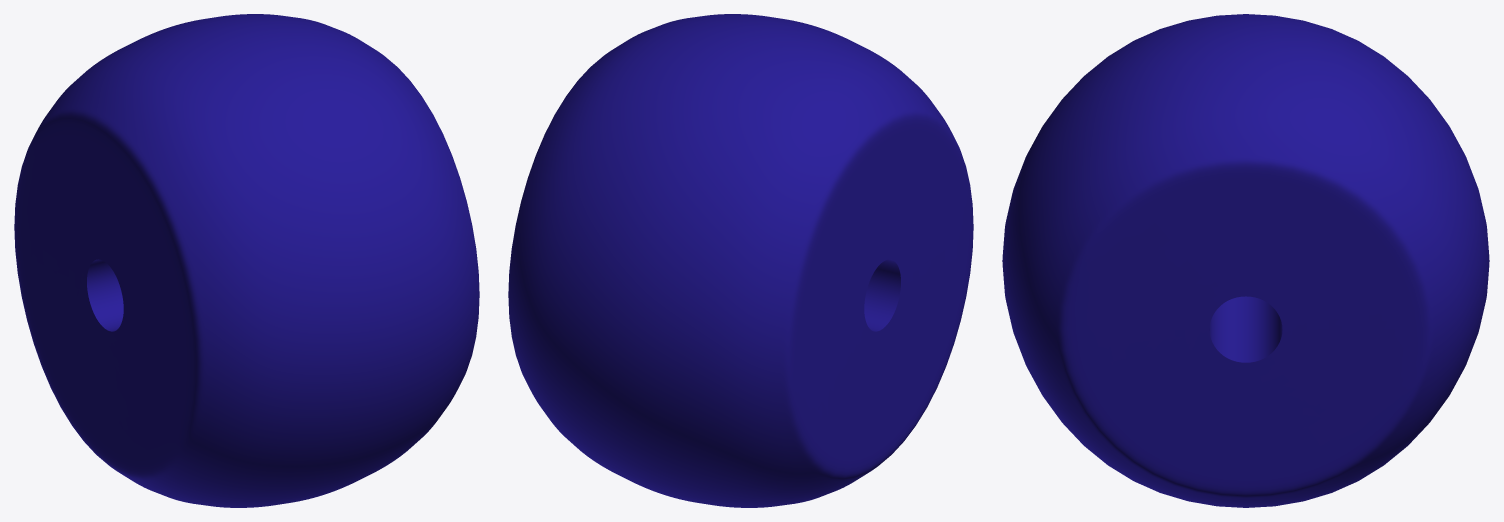
File: 蓝药片.glb
The picture shows the model from 3 angles, left to right: view 1: azimuth 30°, elevation 25°; view 2: azimuth 150°, elevation 25°; view 3: azimuth 270°, elevation 25°; orthographic projection.
Visible parts, largest first — view 1: JewelCAD; view 2: JewelCAD; view 3: JewelCAD.
Boxes of the visible parts, x1,y1,x2,y2 form: JewelCAD: [14, 14, 479, 507]; JewelCAD: [508, 14, 973, 507]; JewelCAD: [1002, 14, 1489, 507].
Size of the model in its own units: 0.004 by 0.006 by 0.006.
